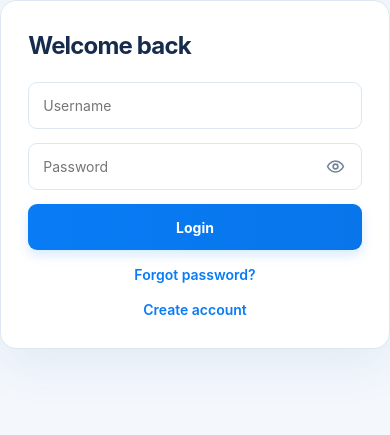
it: Login › does not sign in when the backend cannot be reached
The image size is (390, 435).
Type "test-user" into the field with placeholder "Username". click: (195, 106)
box: x1=28 y1=82 x2=362 y2=129
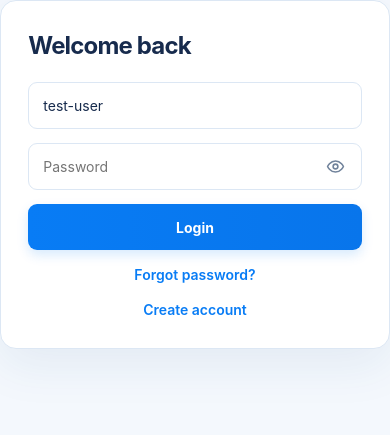
Type "any-password" into the password field with placeholder "Password". click: (195, 167)
box: x1=28 y1=143 x2=362 y2=190
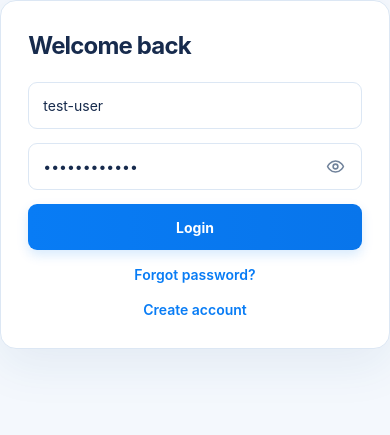
Click the button "Login". click: (195, 227)
box: x1=28 y1=204 x2=362 y2=250
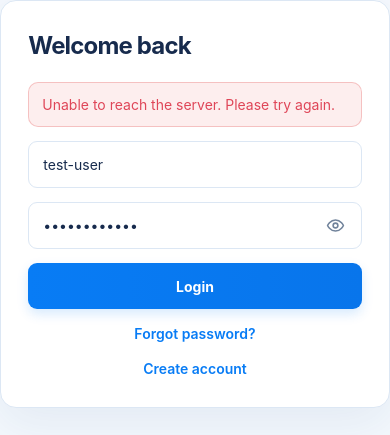
Expected: the text "Unable to reach the server. Please try again." is shown, x1=28 y1=82 x2=362 y2=127
